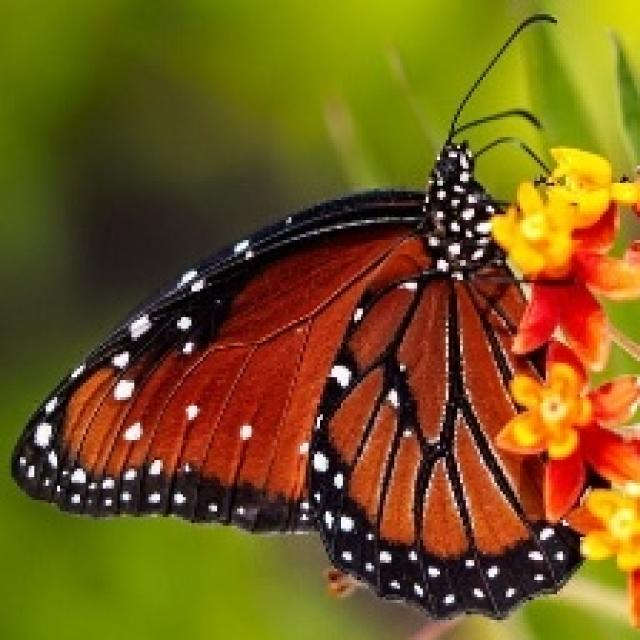butterfly: (9, 8, 637, 623)
